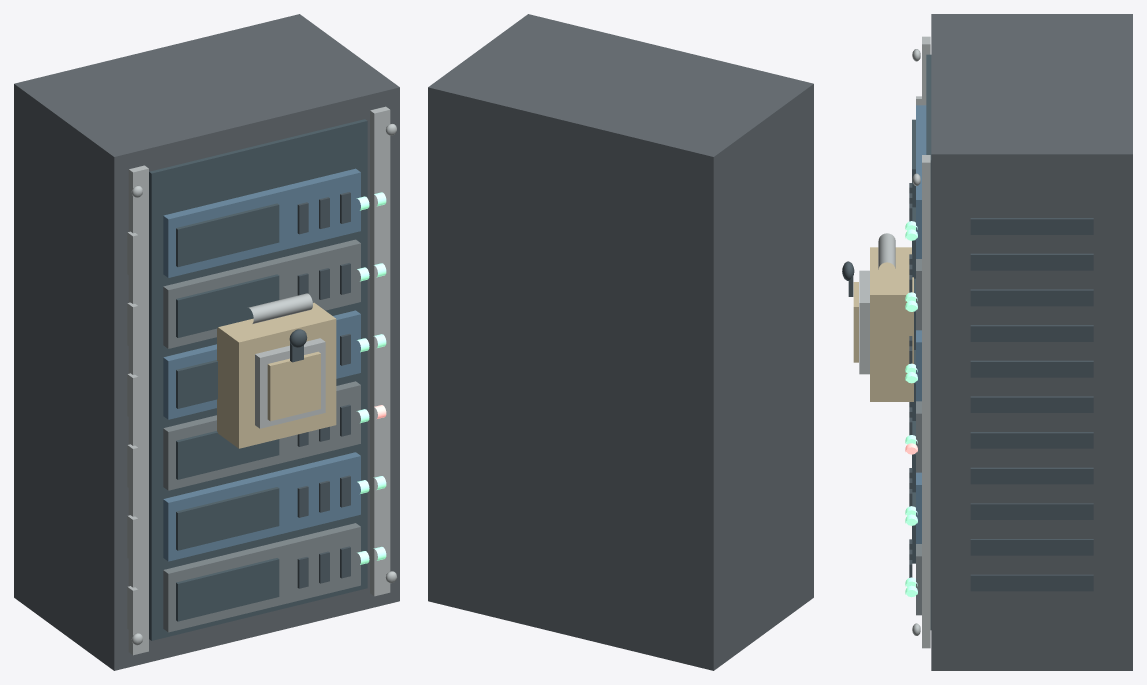
File: projet-login-secure.glb
The picture shows the model from 3 angles, left to right: view 1: azimuth 30°, elevation 25°; view 2: azimuth 150°, elevation 25°; view 3: azimuth 270°, elevation 25°; orthographic projection.
Parts seen in each view (by area): view 1: Powder-coated server chassis, Smoked server glass, Brushed aluminum rack rails, Ventilation steel, Drive bay satin blue, Champagne brass lock, Ventilation slots, Lock and rack fasteners, Green status LEDs; view 2: Powder-coated server chassis; view 3: Powder-coated server chassis, Ventilation slots, Champagne brass lock, Brushed aluminum rack rails, Smoked server glass, Lock and rack fasteners, Drive bay satin blue, Ventilation steel, Green status LEDs.
Boxes of the visible parts, left/top/right/bottom form: Powder-coated server chassis: left=14, top=14, right=399, bottom=670; Smoked server glass: left=149, top=119, right=367, bottom=640; Brushed aluminum rack rails: left=127, top=106, right=390, bottom=655; Ventilation steel: left=163, top=239, right=360, bottom=632; Drive bay satin blue: left=163, top=168, right=360, bottom=561; Champagne brass lock: left=217, top=302, right=336, bottom=448; Ventilation slots: left=289, top=192, right=350, bottom=588; Lock and rack fasteners: left=131, top=123, right=396, bottom=645; Green status LEDs: left=356, top=192, right=386, bottom=564; Powder-coated server chassis: left=428, top=14, right=813, bottom=670; Powder-coated server chassis: left=931, top=14, right=1132, bottom=670; Ventilation slots: left=842, top=183, right=1093, bottom=591; Champagne brass lock: left=853, top=247, right=913, bottom=401; Brushed aluminum rack rails: left=916, top=36, right=930, bottom=648; Smoked server glass: left=912, top=54, right=931, bottom=629; Lock and rack fasteners: left=859, top=49, right=920, bottom=635; Drive bay satin blue: left=916, top=105, right=926, bottom=543; Ventilation steel: left=916, top=259, right=921, bottom=615; Green status LEDs: left=905, top=221, right=917, bottom=597.
Size of the model in its own units: 1.37 by 2.32 by 1.18.
